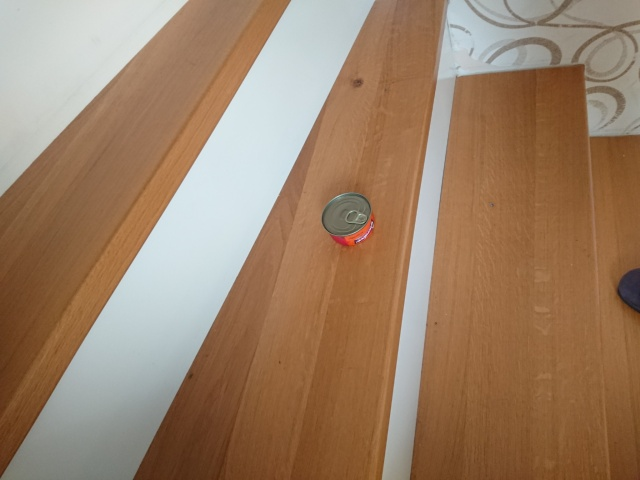Gavrilovic Pork Liver Pate 100g: (319, 190, 376, 248)
